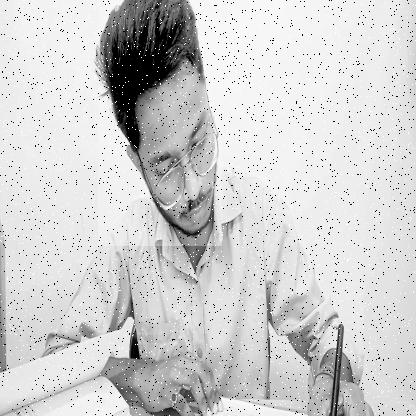Distracted: (98, 0, 222, 246)
